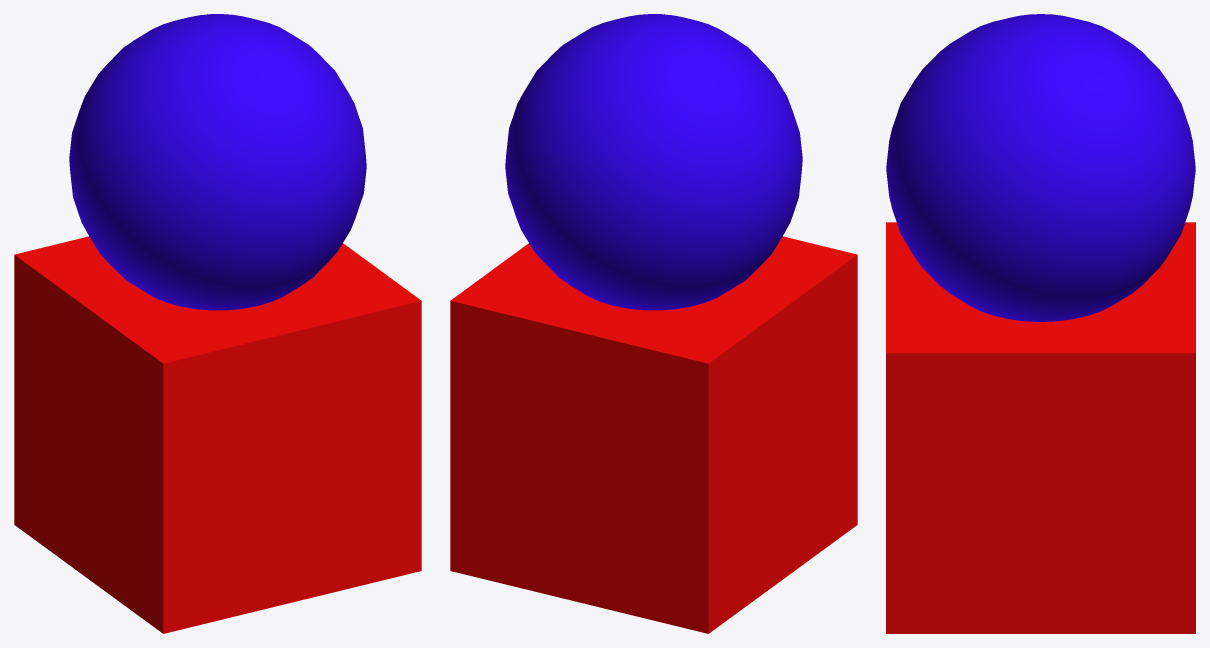
Rendered from BoxBall.FBX.
3 views of the same model, side by side, from view 1: azimuth 30°, elevation 25°; view 2: azimuth 150°, elevation 25°; view 3: azimuth 270°, elevation 25° (orthographic). The views are drawn at different scales.
Parts seen in each view (by area): view 1: Box001; view 2: Box001; view 3: Box001.
Part boxes in pixels (<box>): Box001: <box>14,14,421,633</box>; Box001: <box>450,14,857,633</box>; Box001: <box>886,14,1195,633</box>.
Size of the model in its own units: 20 by 38.49 by 20.
